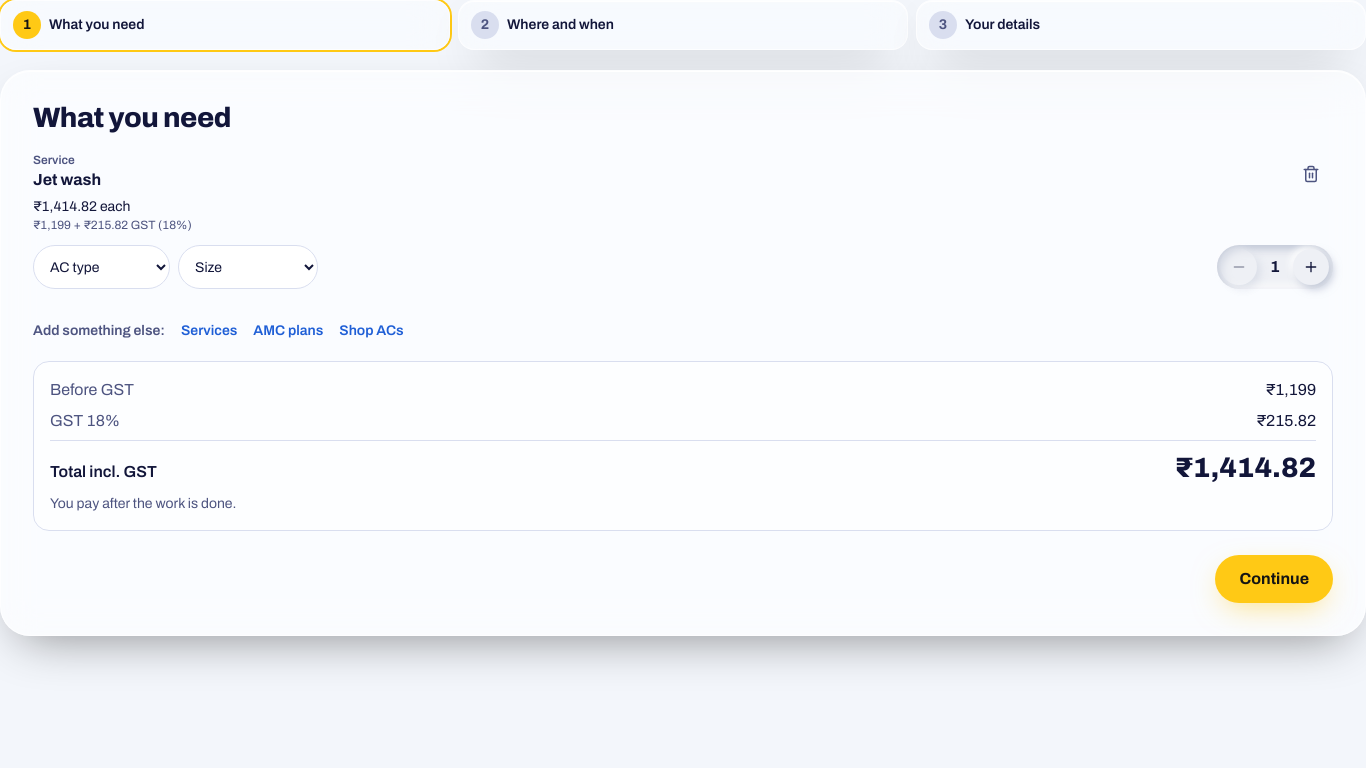
Test: BookFlow › sends the whole basket and shows the tracking code
The image size is (1366, 768).
Click the button "Continue".
click(1274, 579)  # box [1216, 555, 1333, 603]
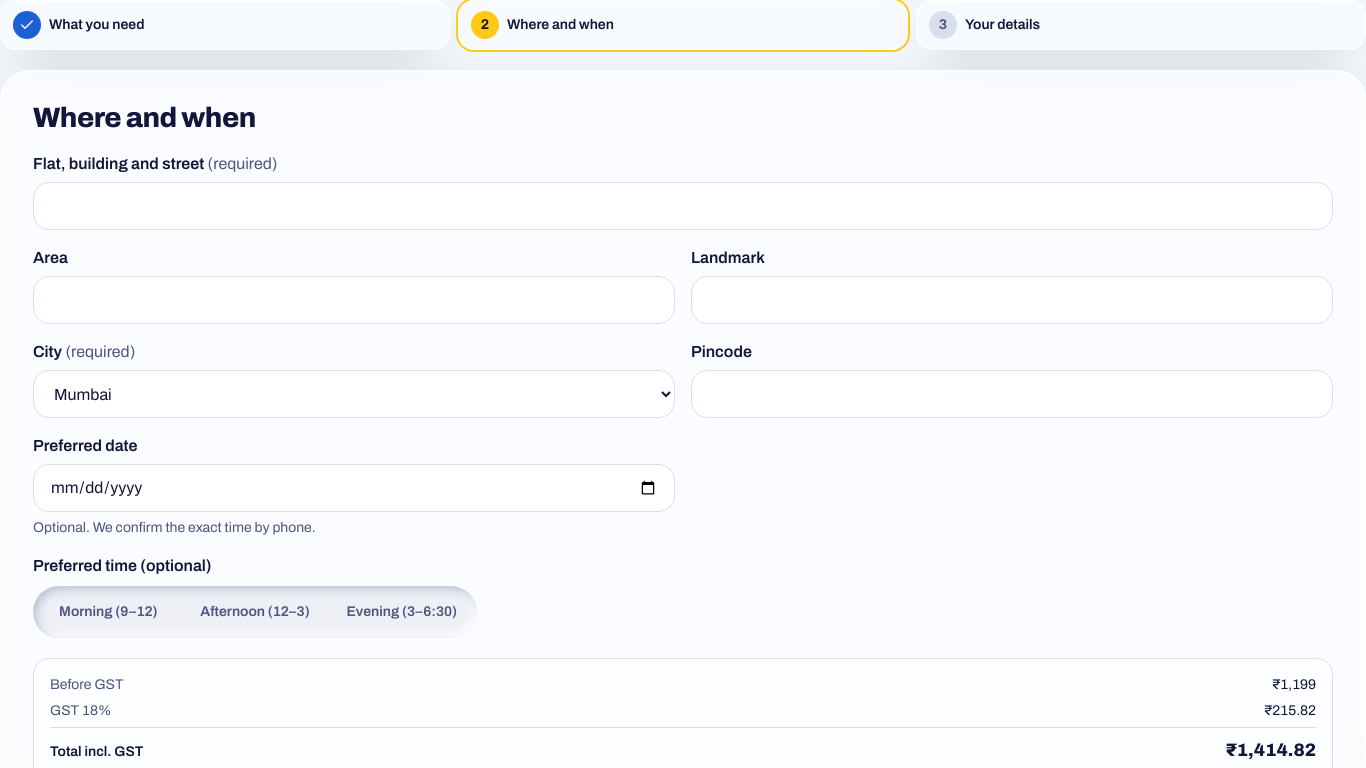
Type "12 Sea View, Chembur" into the field labelled "Flat, building and street (required)".
click(683, 206); type("12 Sea View, Chembur")  # box [33, 182, 1333, 230]
(page scrolled)
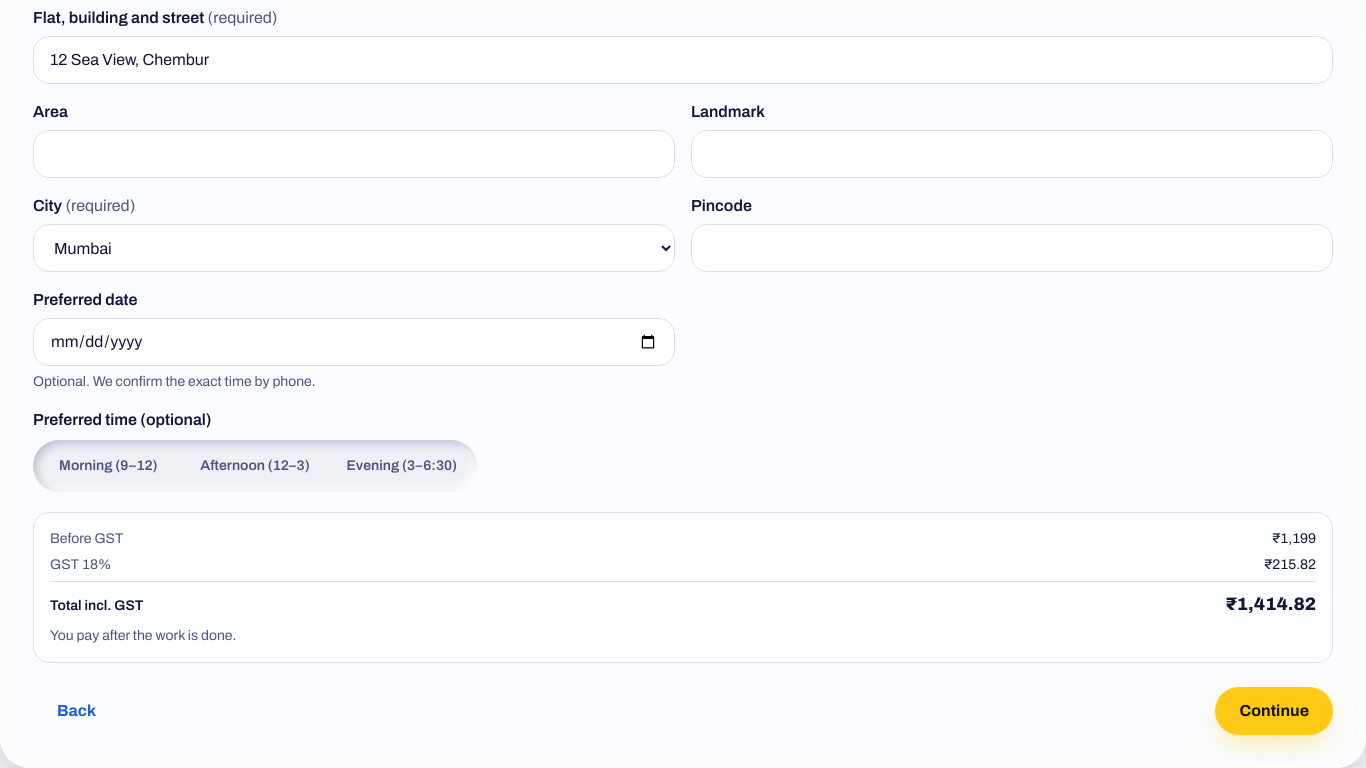
Click the button "Continue".
click(1274, 711)  # box [1216, 687, 1333, 735]
(page scrolled)
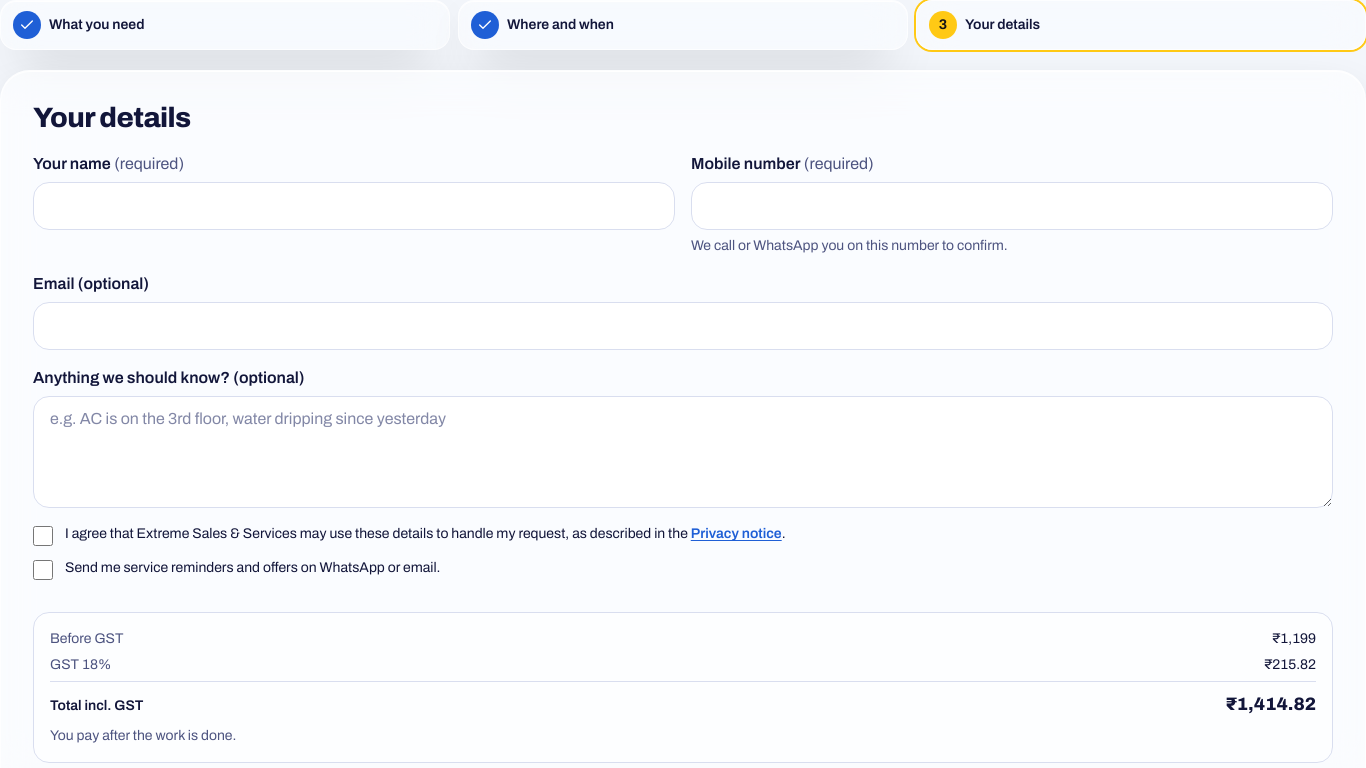
Type "Asha Rao" into the field labelled "Your name (required)".
click(354, 206); type("Asha Rao")  # box [33, 182, 675, 230]
Type "+91 98765 43210" into the field labelled "Mobile number (required)".
click(1012, 206); type("+91 98765 43210")  # box [691, 182, 1333, 230]
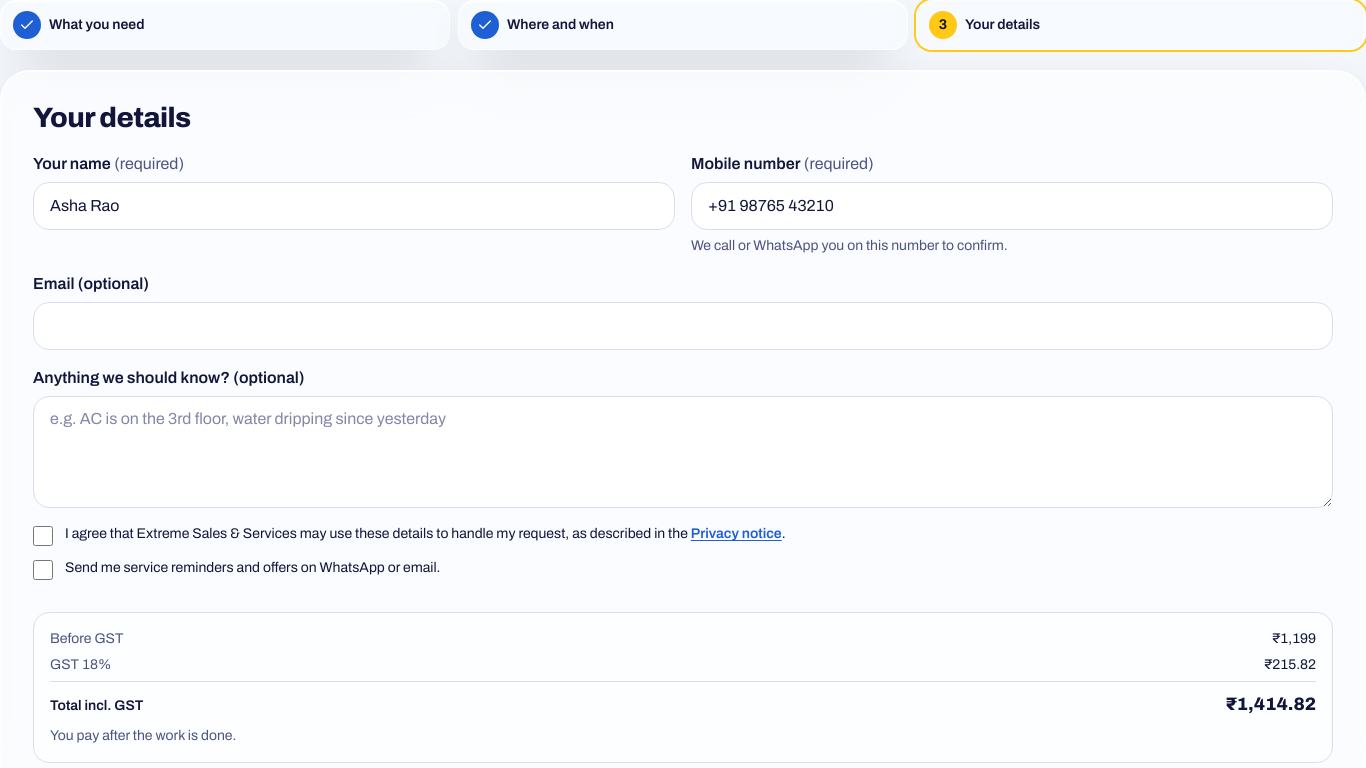
Click the checkbox labelled "I agree that".
click(43, 536)  # box [33, 526, 53, 546]
(page scrolled)
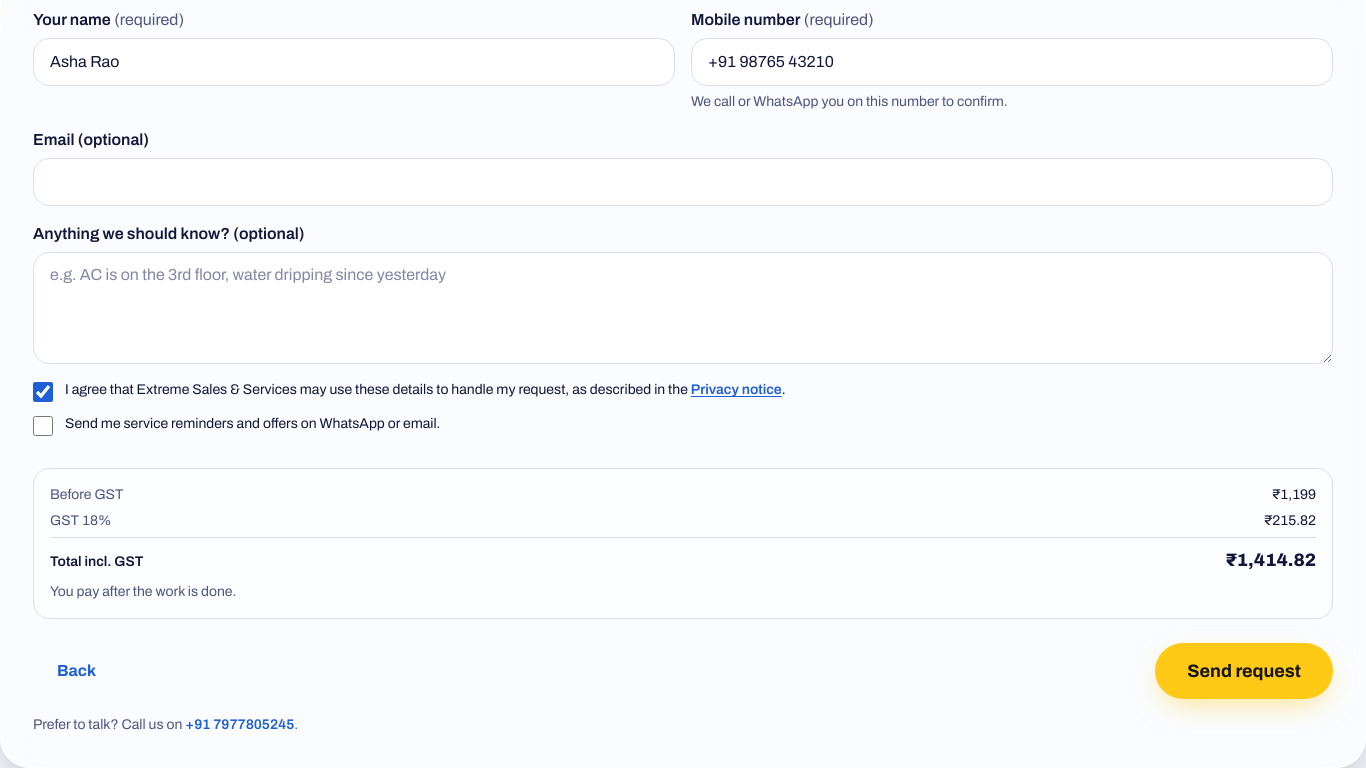
Click the button "Send request".
click(1244, 671)  # box [1155, 643, 1333, 699]
(page scrolled)
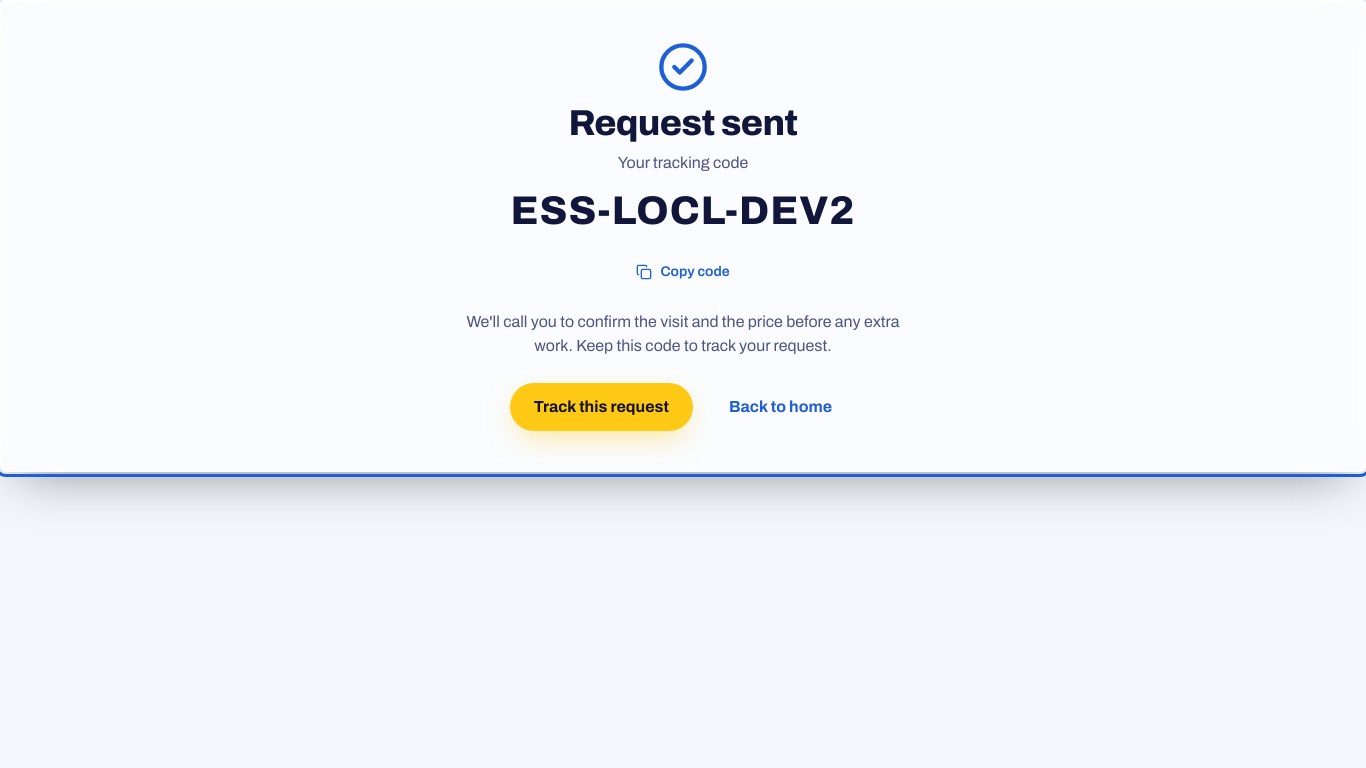
Check: the text "ESS-LOCL-DEV2" is shown, box [511, 189, 855, 232]
